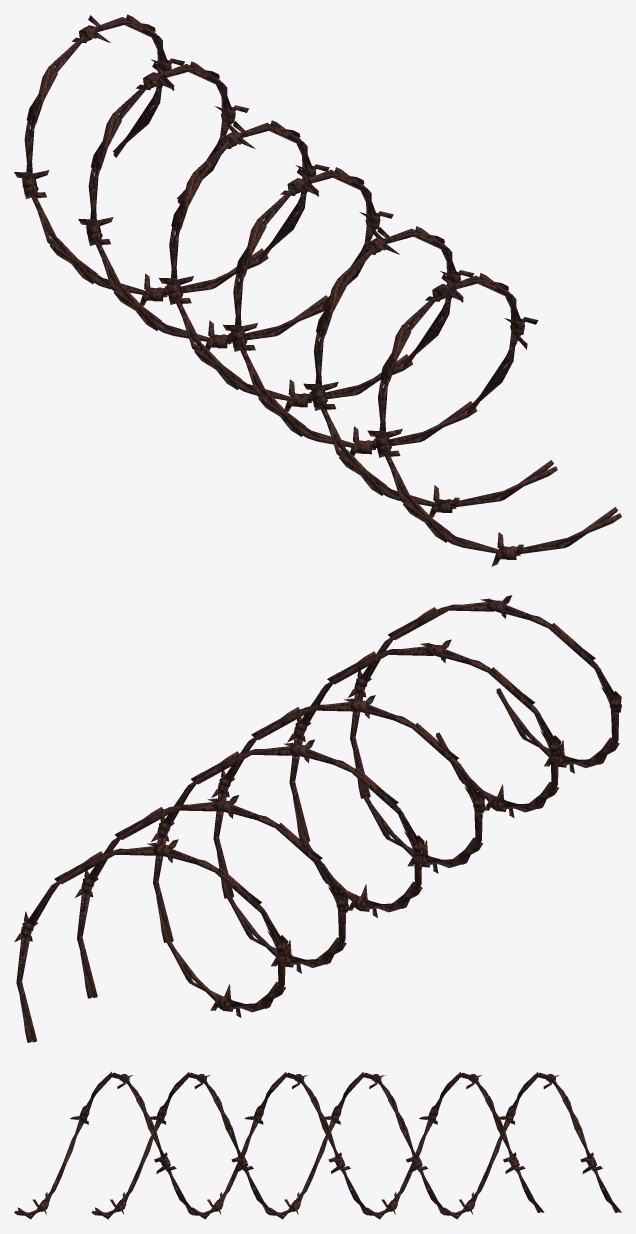
The model's file is Barb_Wire_Circular_SA.fbx.
The picture shows the model from 3 angles, top to bottom: view 1: azimuth 30°, elevation 25°; view 2: azimuth 150°, elevation 25°; view 3: azimuth 270°, elevation 25°; orthographic projection. The views are drawn at different scales.
Visible parts, largest first — view 1: Barb_Wire_Circular; view 2: Barb_Wire_Circular; view 3: Barb_Wire_Circular.
Part boxes in pixels (x1,y1,x2,y2): Barb_Wire_Circular: (14,14,621,566); Barb_Wire_Circular: (14,595,621,1042); Barb_Wire_Circular: (14,1071,621,1219).
Bounding box in the file's own units: 34.28 × 33.87 × 133.
